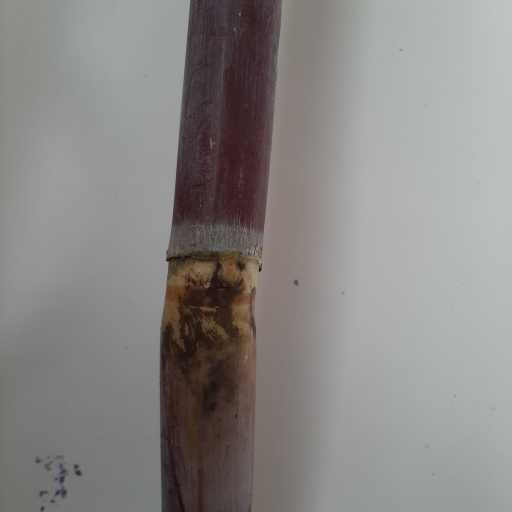Bud: (218, 257, 242, 287)
